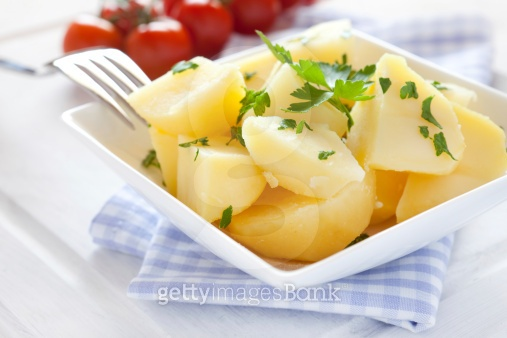boiled potatoes: (150, 56, 503, 229)
